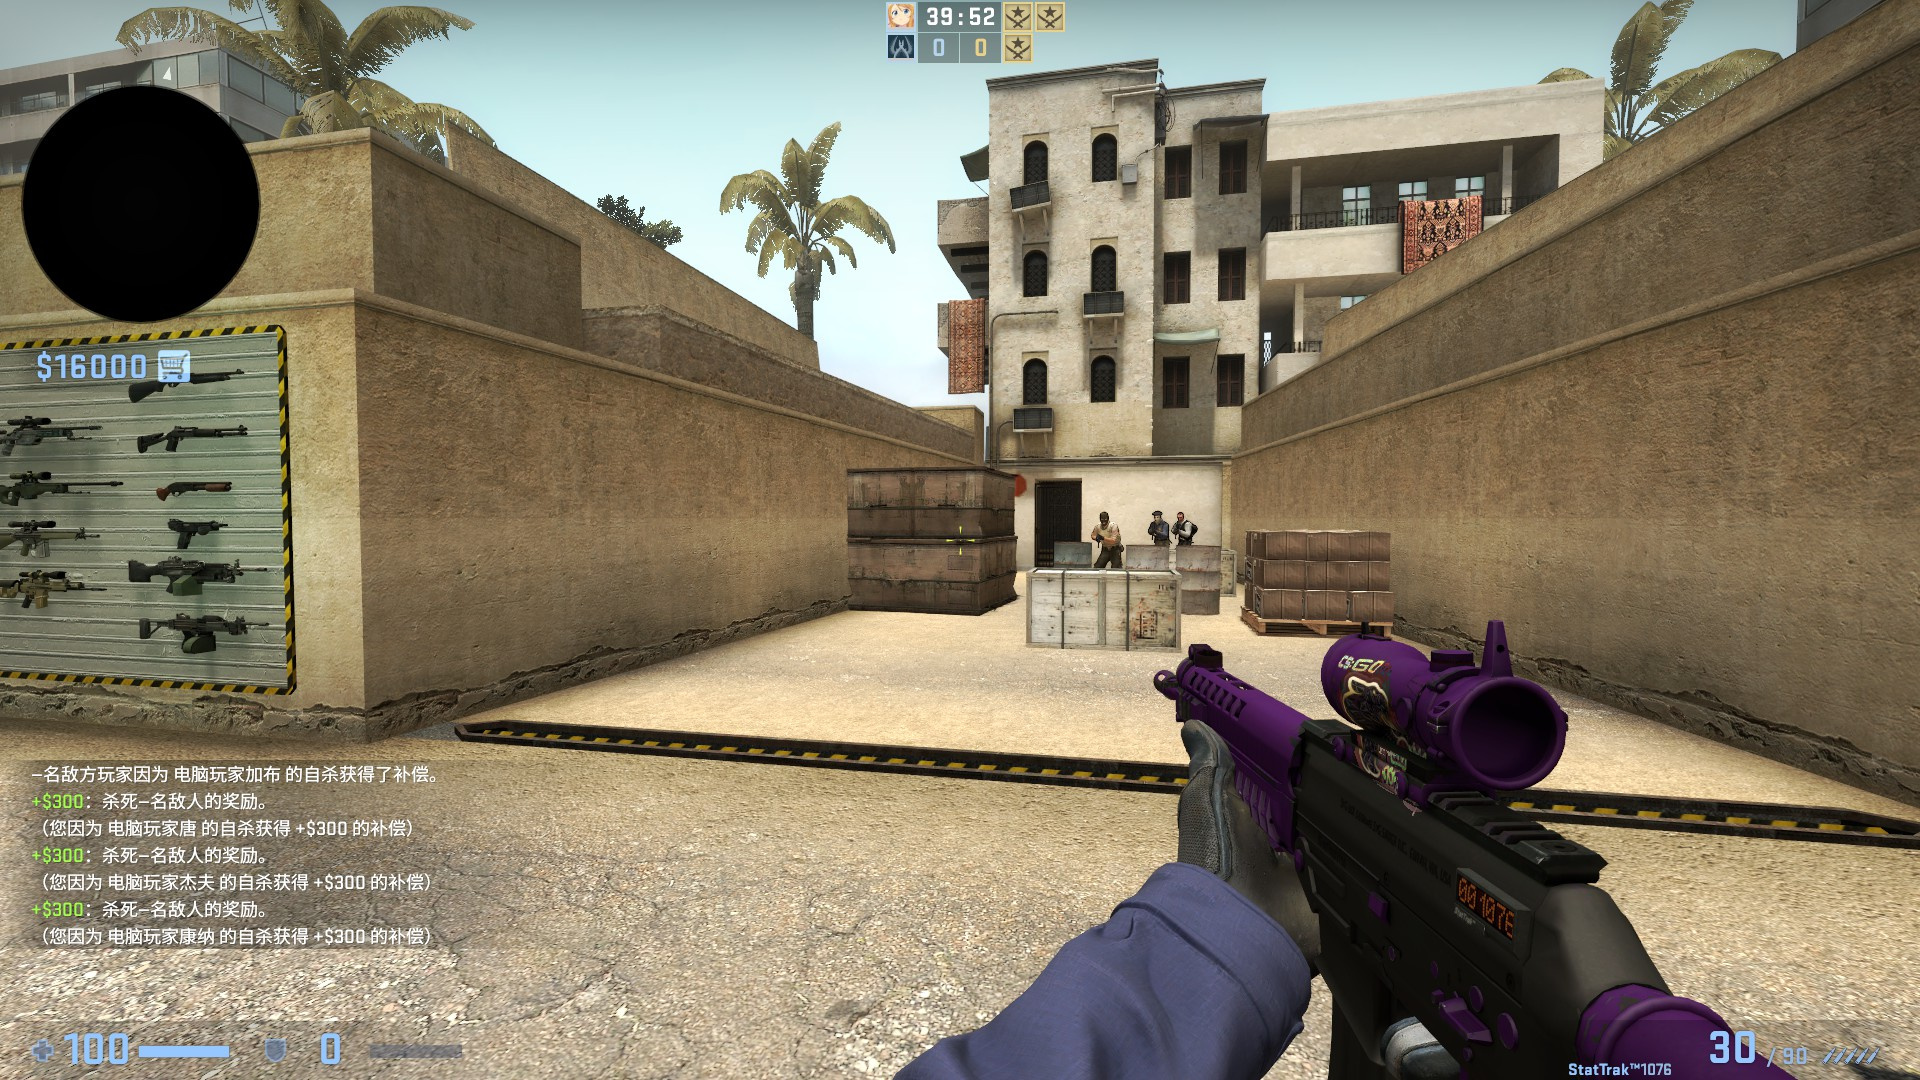head: (1149, 509, 1163, 523), (1097, 510, 1108, 527), (1175, 511, 1183, 522)
